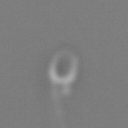abnormal: (51, 83, 79, 128)
